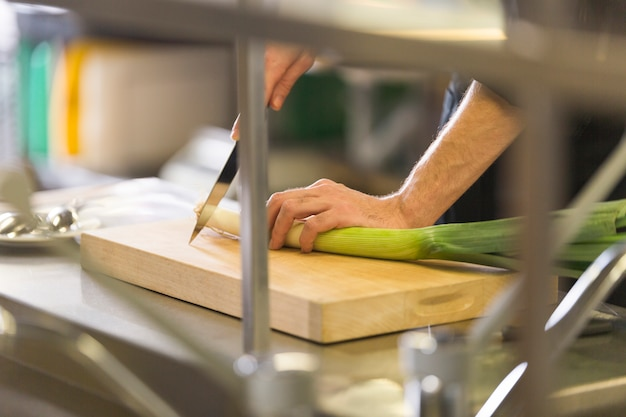knife: (187, 127, 243, 245)
